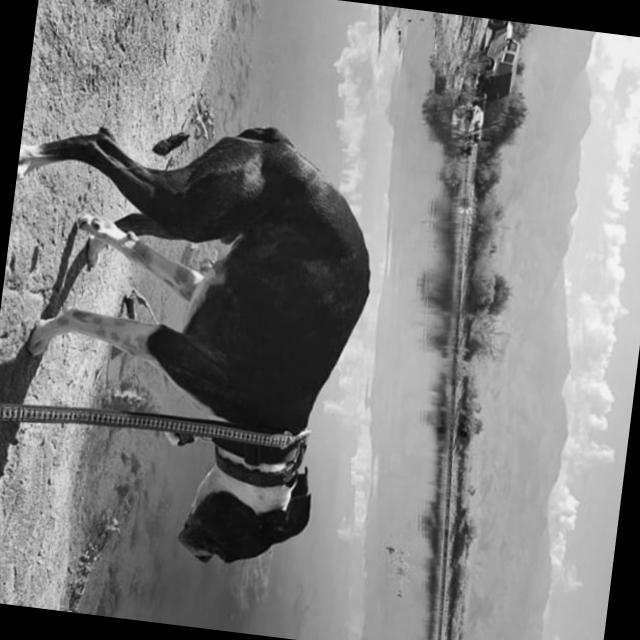squatting: (0, 74, 395, 596)
